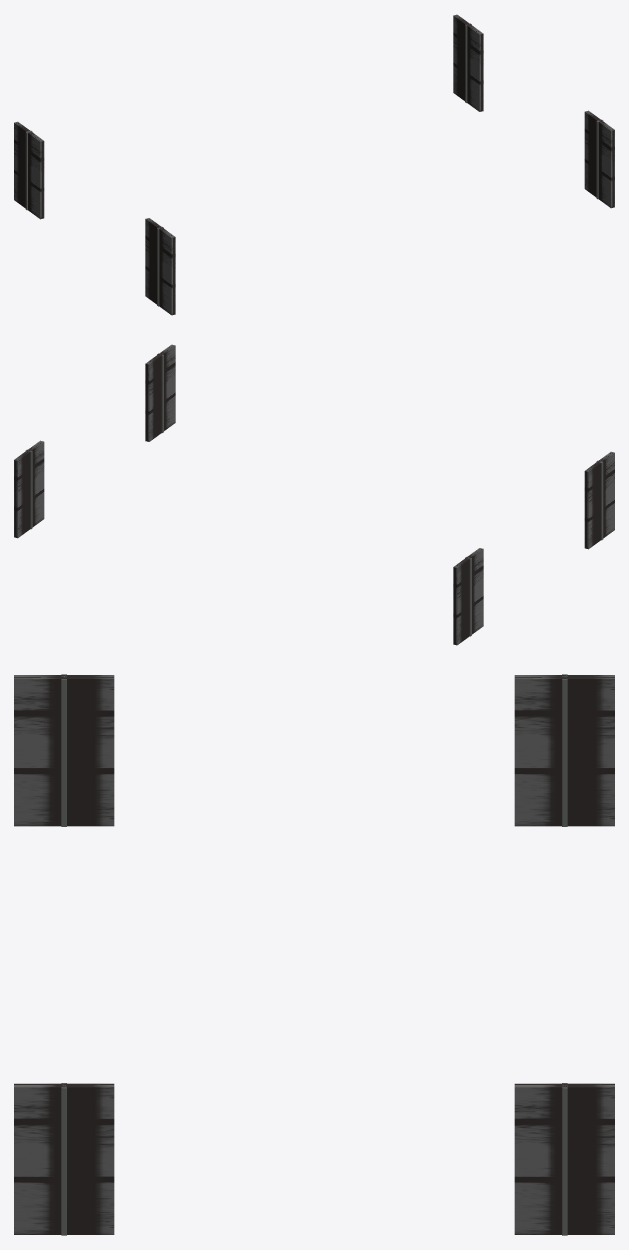
File: BW_Chapel01_SideWindows.fbx
3 views of the same model, one above another, from view 1: azimuth 30°, elevation 25°; view 2: azimuth 150°, elevation 25°; view 3: azimuth 270°, elevation 25° (orthographic). The views are drawn at different scales.
Visible parts, largest first — view 1: BW_Chapel01_SideWindows; view 2: BW_Chapel01_SideWindows; view 3: BW_Chapel01_SideWindows.
Part boxes in pixels (x1,y1,x2,y2): BW_Chapel01_SideWindows: (14, 14, 614, 315); BW_Chapel01_SideWindows: (14, 344, 614, 645); BW_Chapel01_SideWindows: (14, 674, 614, 1235).
Size of the model in its own units: 7.82 by 1.3 by 4.8.
